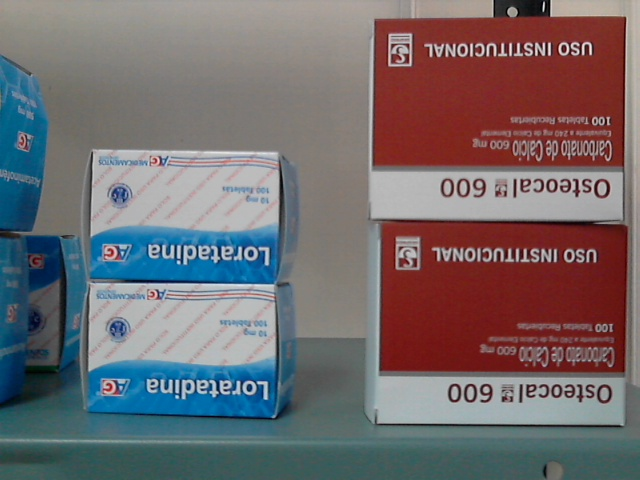AG: (90, 151, 279, 284), (88, 286, 276, 418)
